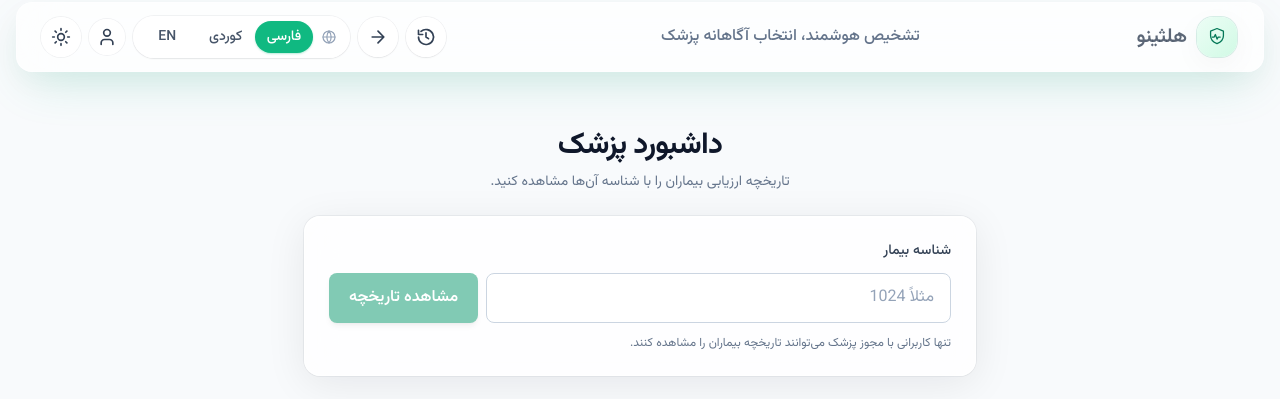
Test: DoctorDashboard — patient lookup › keeps the View button disabled until a positive integer ID is entered
Expected: the button with test id "doctor-view-button" is disabled, [329,273,478,323]
Type "0" into the number field with test id "doctor-patient-id-input" at (719, 298), box [486,273,951,323]
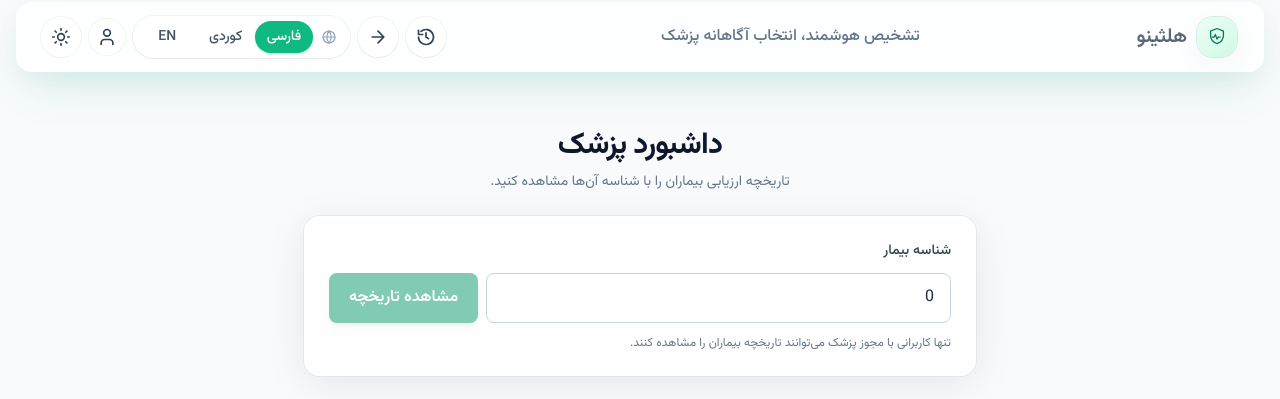
Expected: the button with test id "doctor-view-button" is disabled, [329,273,478,323]
Replace the text in the number field with test id "doctor-patient-id-input" with "42" at (719, 298), box [486,273,951,323]
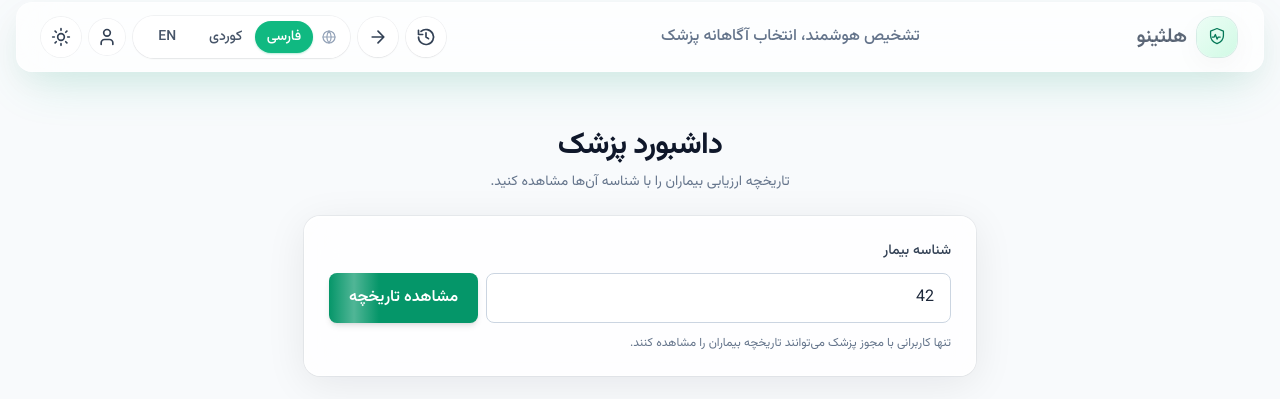
Now the button with test id "doctor-view-button" is enabled, box [329,273,478,323]
